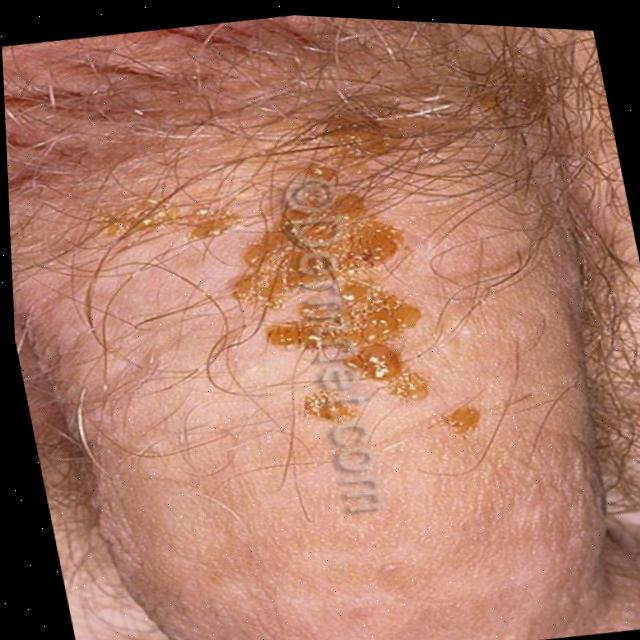Shingles: (231, 128, 455, 432)
